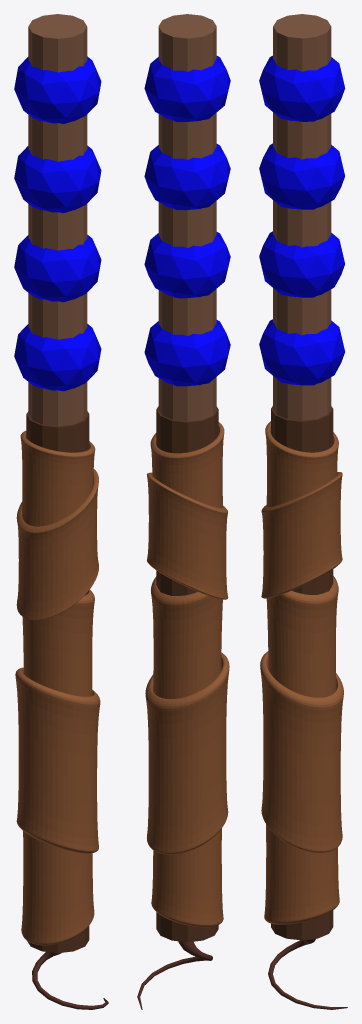
File: Wand 339.glb
3 renders of one model, left to right at view 1: azimuth 30°, elevation 25°; view 2: azimuth 210°, elevation 25°; view 3: azimuth 330°, elevation 25°, orthographic.
Parts seen in each view (by area): view 1: GeneratedWand; view 2: GeneratedWand; view 3: GeneratedWand.
Part boxes in pixels (x1,y1,x2,y2): GeneratedWand: (14,14,108,1009); GeneratedWand: (137,14,230,1009); GeneratedWand: (259,14,347,1009).
Bounding box in the file's own units: 0.0462 × 0.521 × 0.0428.
